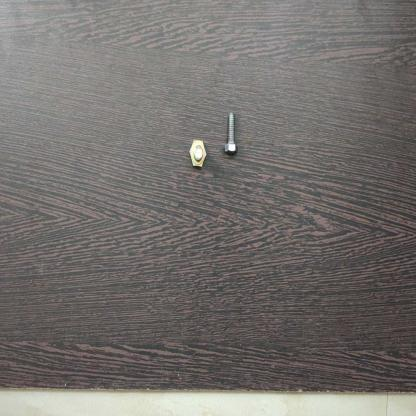Bolts: (186, 136, 208, 172), (224, 112, 241, 156)
